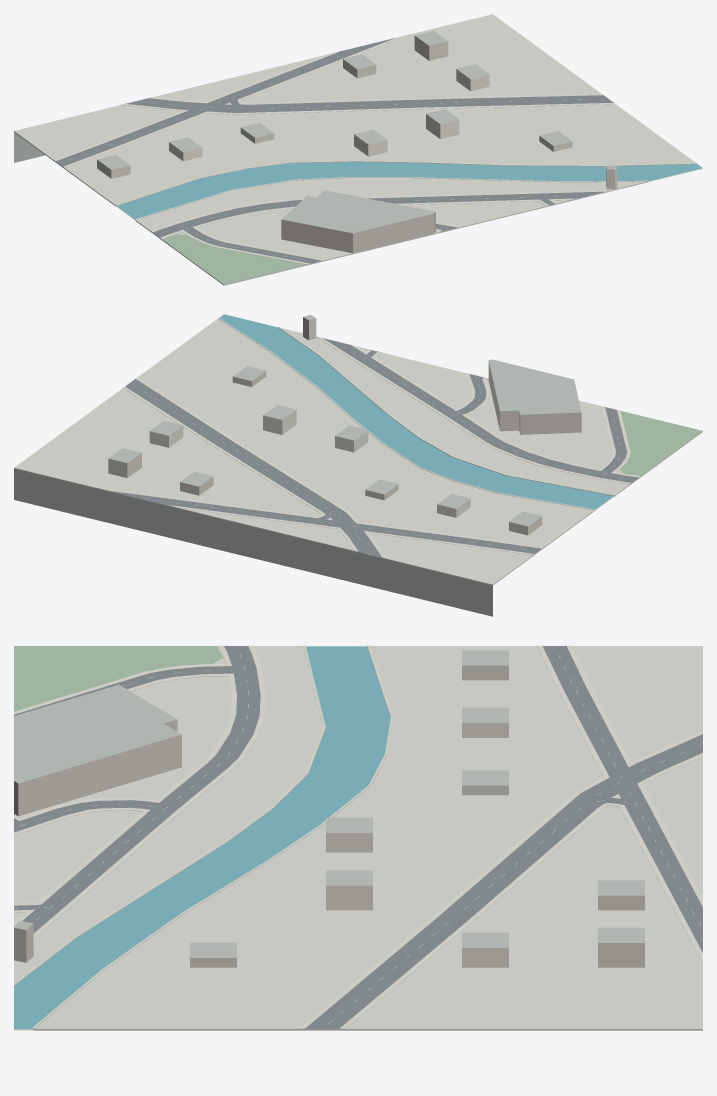
The picture shows the model from 3 angles, top to bottom: view 1: azimuth 30°, elevation 25°; view 2: azimuth 150°, elevation 25°; view 3: azimuth 270°, elevation 25°; orthographic projection. The views are drawn at different scales.
Parts seen in each view (by area): view 1: city; view 2: city; view 3: city.
Boxes of the visible parts, left/top/right/bottom form: city: left=14, top=14, right=702, bottom=285; city: left=14, top=314, right=702, bottom=616; city: left=14, top=645, right=702, bottom=1030.
Bounding box in the file's own units: 500 × 52 × 380.
